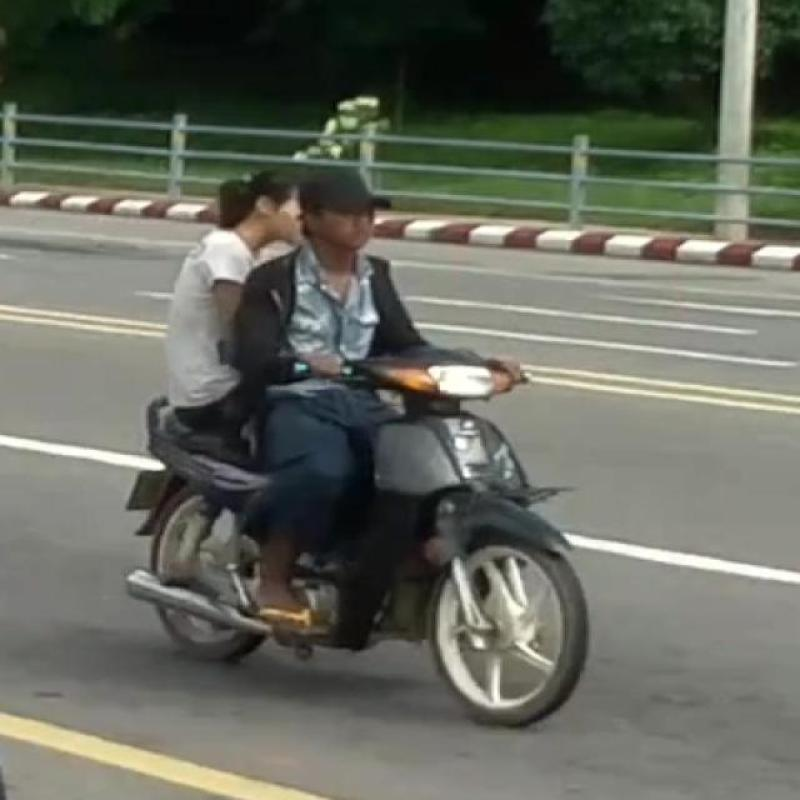nohelmet: (269, 129, 450, 303)
